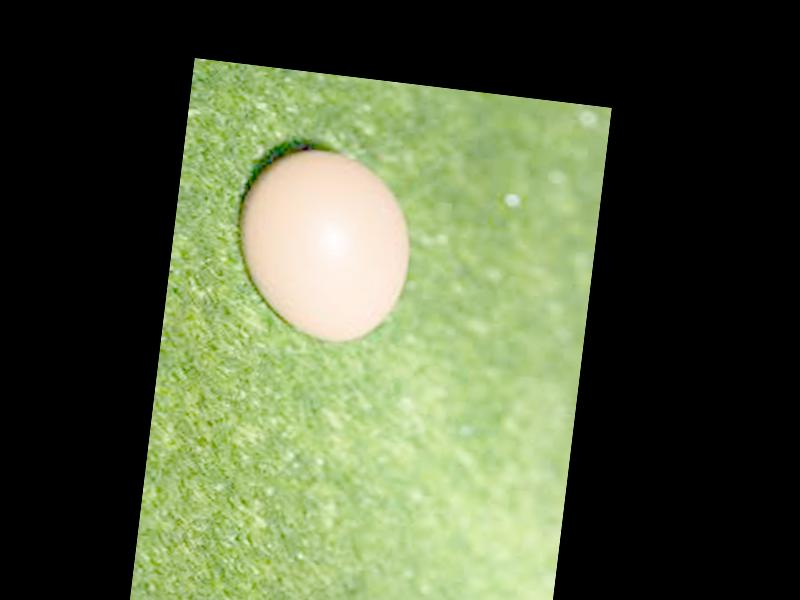Eggs: (226, 140, 417, 351)
